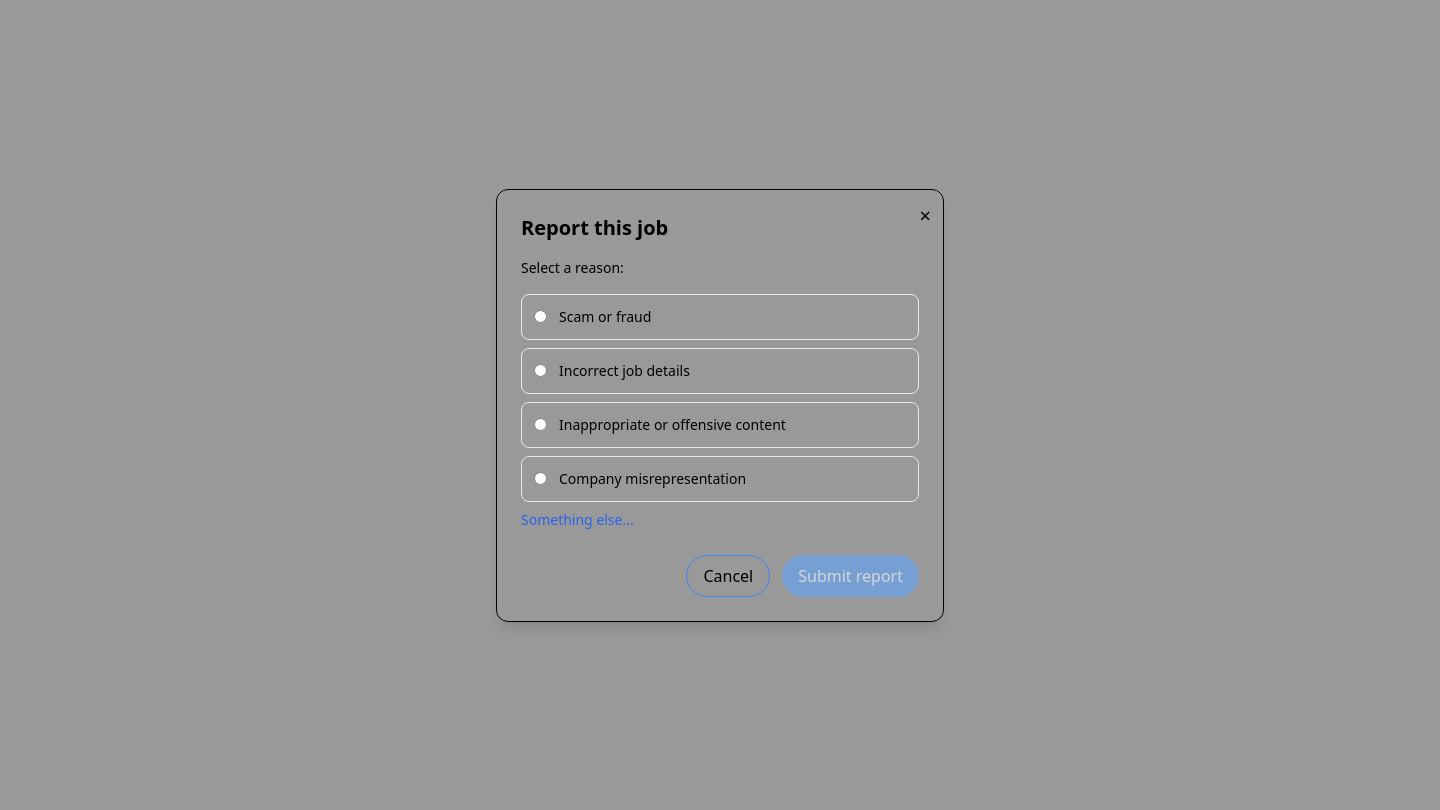
Scenario: ReportJobModal › switches to custom reason input
Click the button "Something else..." at [577, 520], box [521, 510, 634, 530]
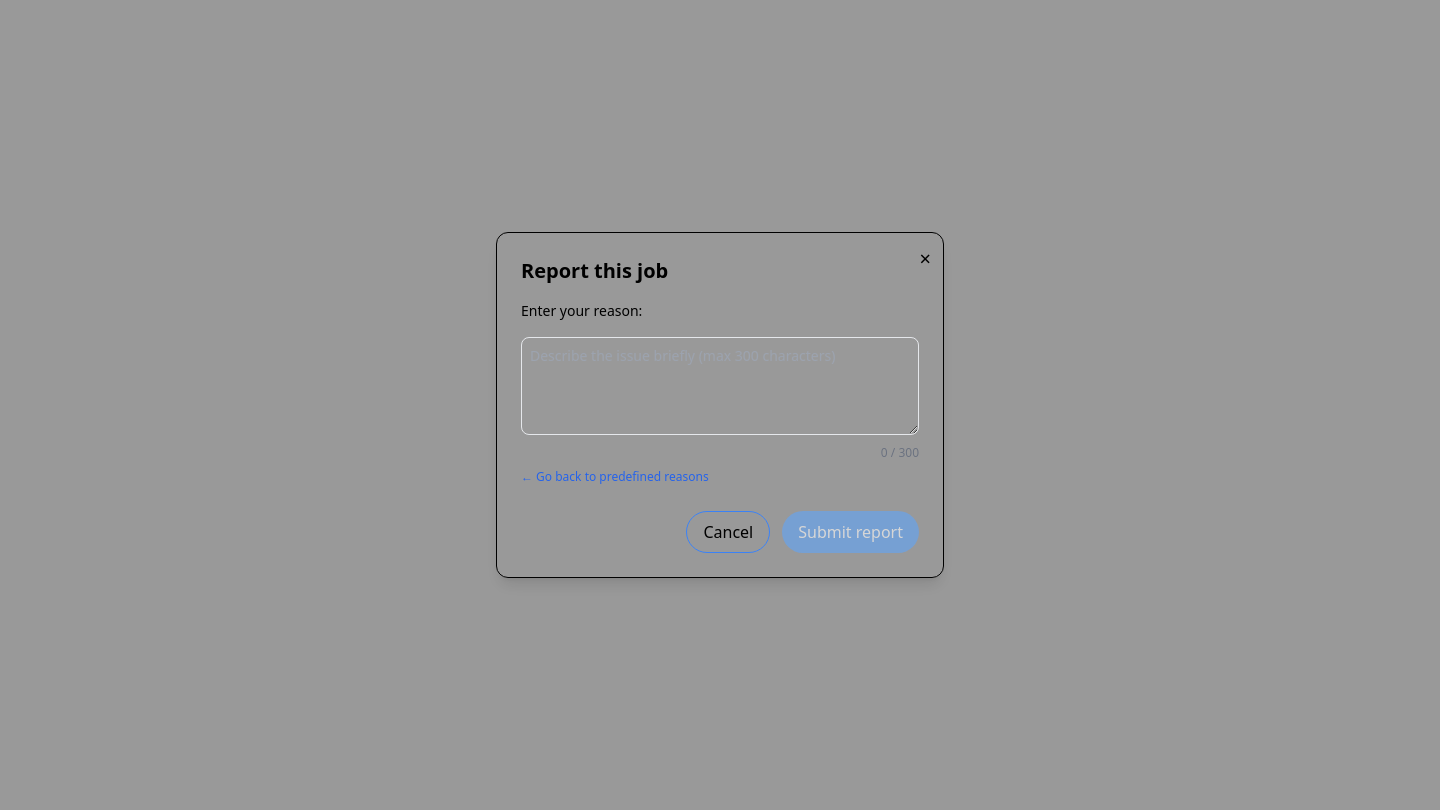
Expected: the text box with placeholder "Describe the issue briefly (max 300 characters)" is shown, [521, 337, 919, 435]
